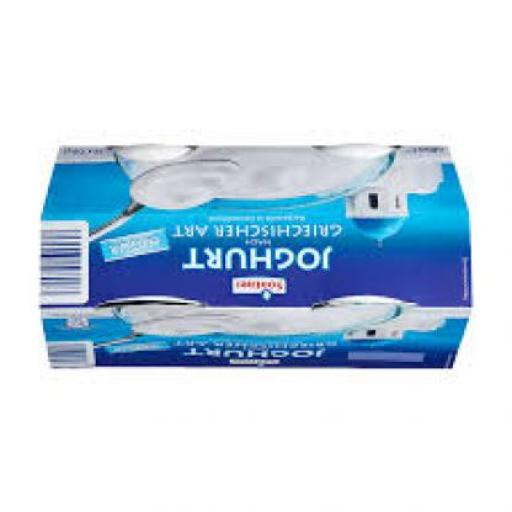cardboard: (40, 150, 474, 371)
